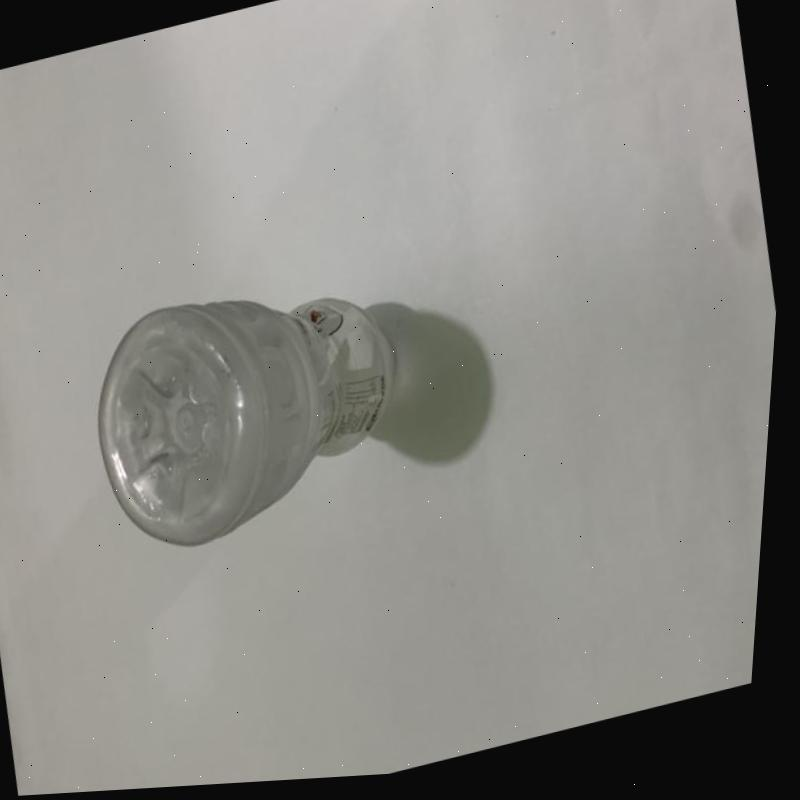botella: (74, 251, 441, 576)
